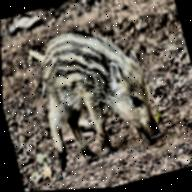boar: (23, 11, 170, 177)
